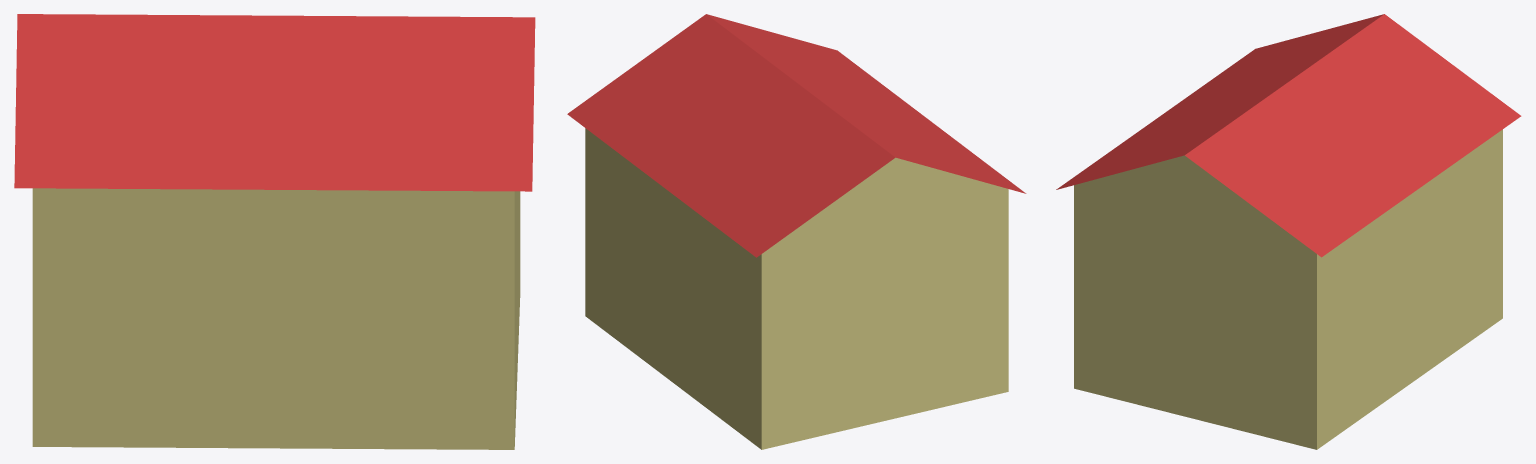
The picture shows the model from 3 angles, left to right: view 1: azimuth 30°, elevation 25°; view 2: azimuth 150°, elevation 25°; view 3: azimuth 270°, elevation 25°; orthographic projection. The views are drawn at different scales.
Size of the model in its own units: 18.33 by 17.31 by 10.97.
